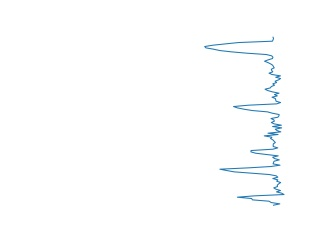distalBar: (202, 34, 283, 81)
interdistributaryEstuary: (230, 81, 286, 142)
underwaterNaturalLevee: (217, 142, 287, 208)
